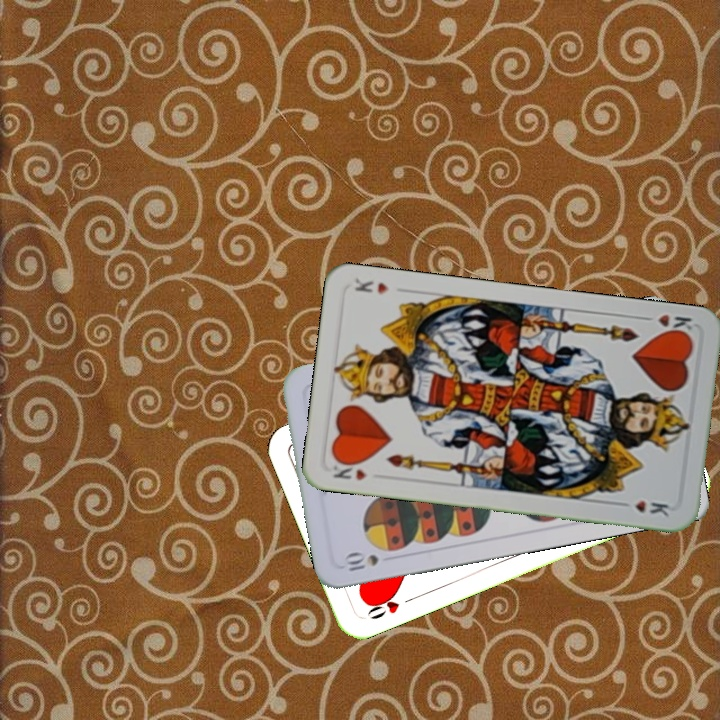HK: (653, 310, 697, 339), (328, 456, 369, 483)
HO: (363, 588, 418, 622)
S10: (340, 549, 381, 575)
